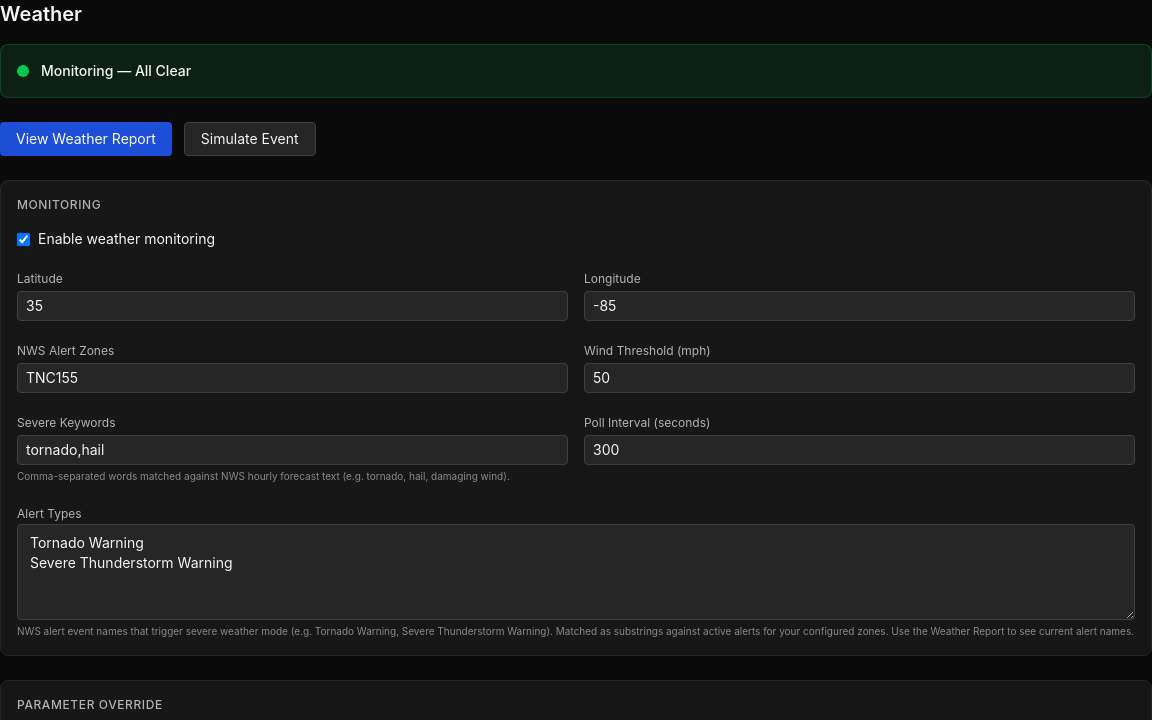
Test case: WeatherConfig — Simulation › report modal shows empty alert state
Click the button "View Weather Report" at (86, 139), box [0, 122, 172, 156]
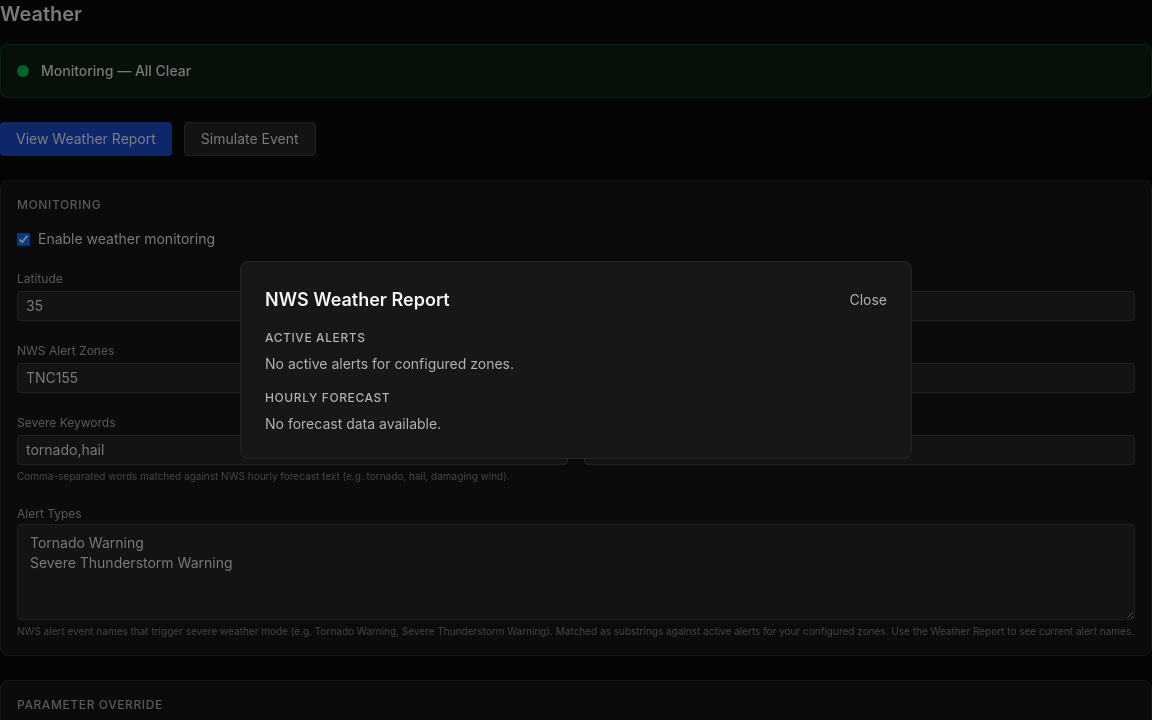
Expected: the text "No active alerts for configured zones." is shown, [265, 355, 514, 372]
Expected: the text "No forecast data available." is shown, [265, 415, 441, 432]
